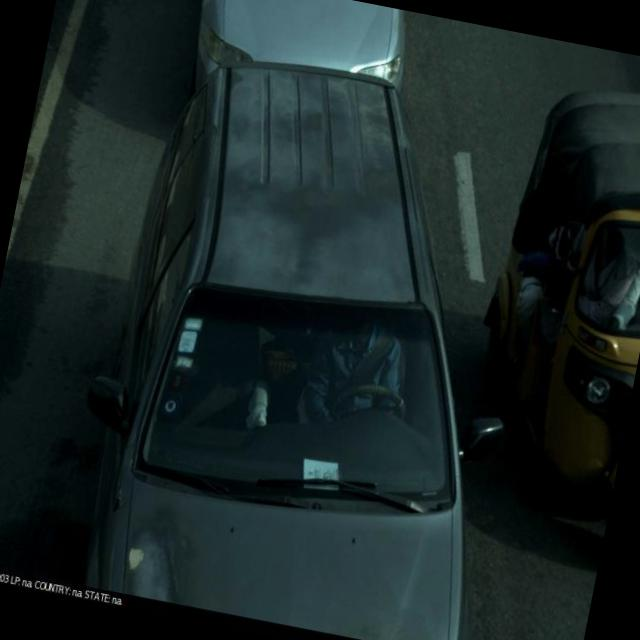person_with_seatbelt: (276, 291, 449, 472)
